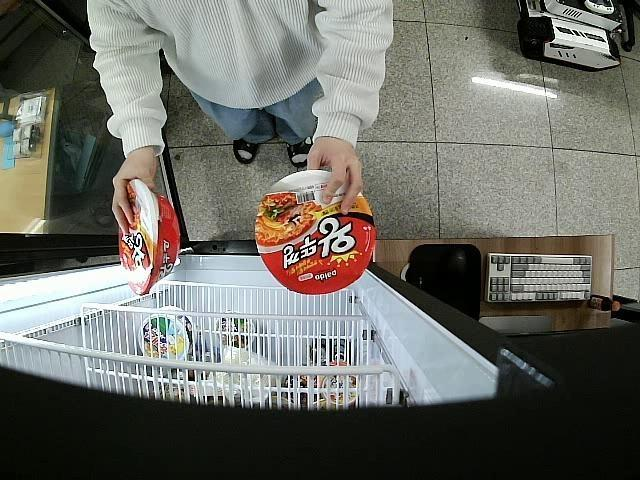10_wangTtukkeong: (255, 171, 374, 294), (118, 178, 182, 297)
